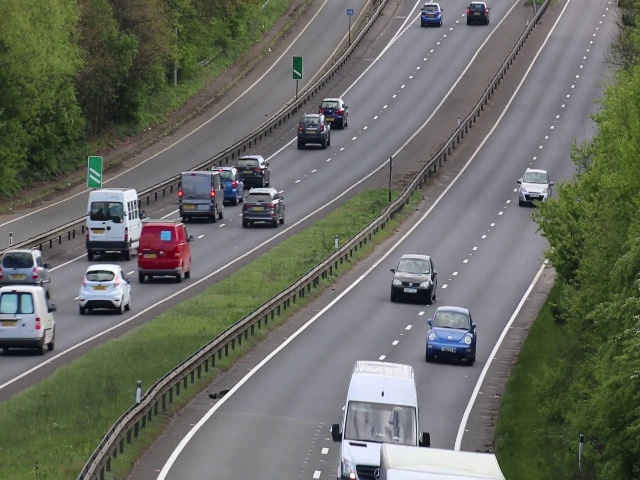car: (336, 383, 422, 480), (83, 189, 143, 263), (1, 284, 59, 354), (138, 222, 195, 285), (425, 305, 476, 363), (78, 263, 132, 316), (388, 250, 437, 304), (177, 169, 223, 221), (1, 246, 54, 289), (241, 187, 287, 228), (296, 113, 332, 148), (521, 166, 550, 204), (242, 155, 271, 185), (221, 164, 243, 203), (463, 1, 491, 26), (419, 1, 443, 28), (325, 97, 345, 125)
